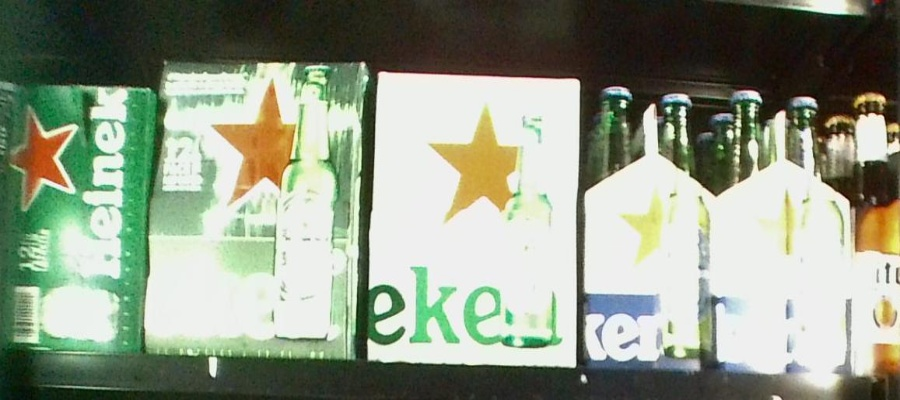bottle: (154, 58, 359, 357), (373, 67, 577, 360), (583, 81, 718, 371), (5, 85, 146, 357), (717, 89, 852, 372)
